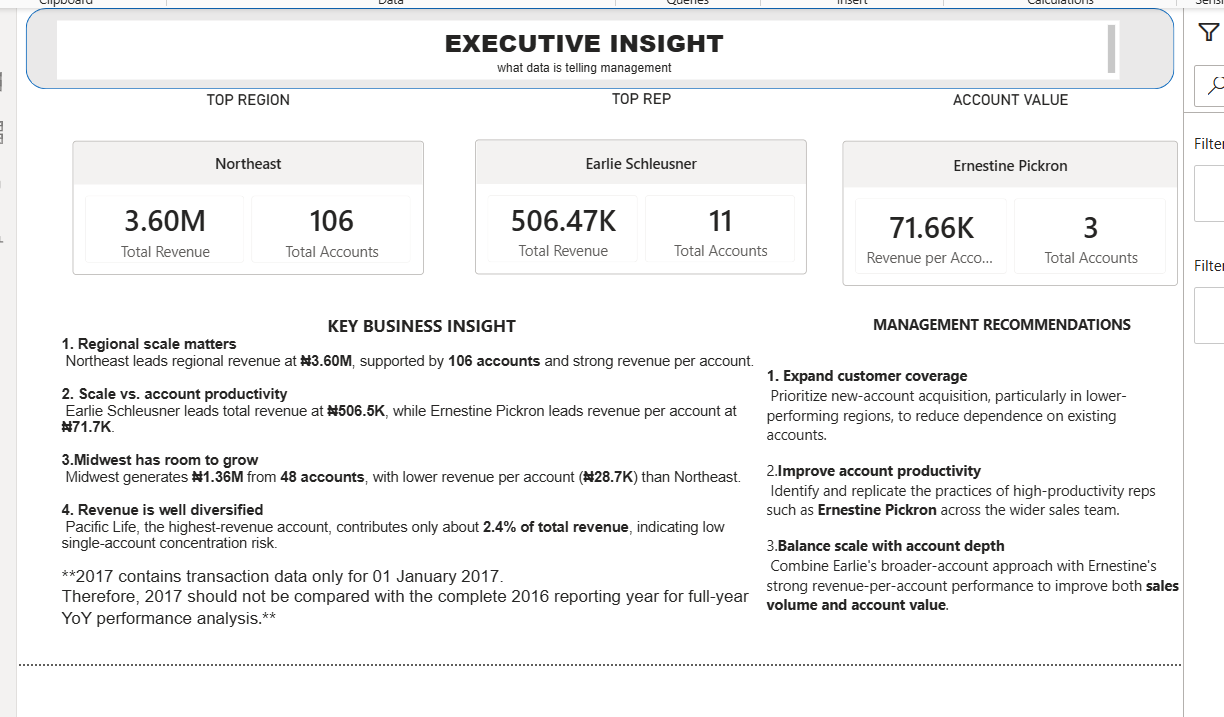

The page's visual inventory and layout, read from the dashboard file:
{"tool":"powerbi","page":{"name":"EXECUTIVE INSIGHT","canvas":[1280,720],"ordinal":3},"visuals":[{"type":"shape","box":[9.6,0,1261.1,89.2],"z":1000},{"type":"textbox","box":[43.9,13.7,1166.4,64.5],"z":2000},{"type":"cardVisual","title":"TOP REGION","fields":{"Rows":["region.Region Name"],"Data":["orders.Total Revenue","accounts.Total Accounts"]},"box":[56.3,90.6,395.2,227.8],"z":7002},{"type":"cardVisual","title":"TOP REP","fields":{"Data":["orders.Total Revenue","accounts.Total Accounts"],"Rows":["sales_reps.Sales Rep Name"]},"box":[498.1,89.2,374.6,229.2],"z":7003},{"type":"cardVisual","title":"ACCOUNT VALUE","fields":{"Data":["orders.Revenue per Account","accounts.Total Accounts"],"Rows":["sales_reps.Sales Rep Name"]},"box":[901.5,90.6,378.7,240.1],"z":7004},{"type":"textbox","box":[43.9,330.7,773.9,274.4],"z":7005},{"type":"textbox","box":[43.9,605.1,773.9,97.4],"z":7006},{"type":"textbox","box":[817.8,330.7,462.4,371.9],"z":7007}]}

Visuals, with their boxes on the page's 1280x720 design canvas (x1, y1, x2, y2). These are canvas units, not pixel positions in the 1224x717 screenshot, which may show the page scaled, cropped or inside an application window:
shape: [10, 0, 1271, 89]
textbox: [44, 14, 1210, 78]
"TOP REGION" cardVisual: [56, 91, 452, 318]
"TOP REP" cardVisual: [498, 89, 873, 318]
"ACCOUNT VALUE" cardVisual: [902, 91, 1280, 331]
textbox: [44, 331, 818, 605]
textbox: [44, 605, 818, 702]
textbox: [818, 331, 1280, 703]
